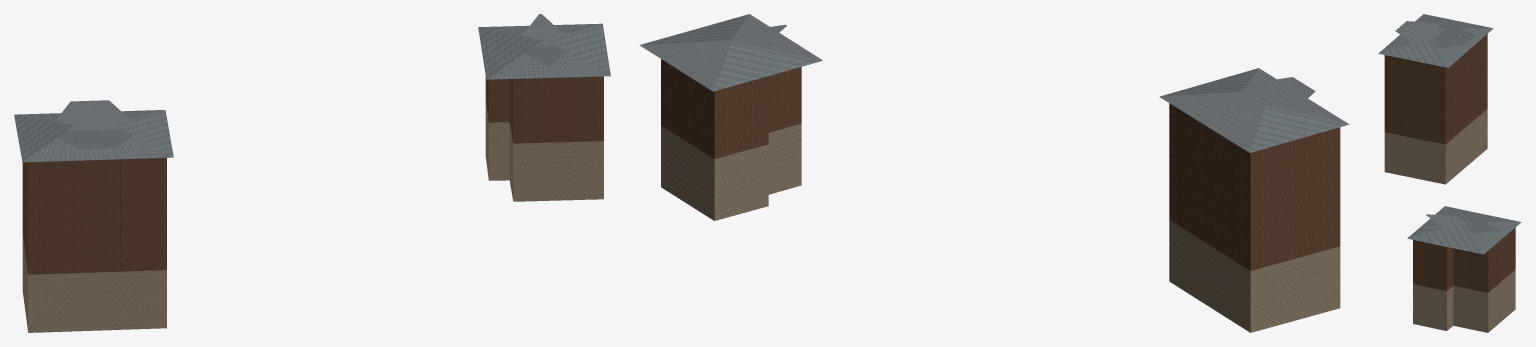
File: bld_c8_8_495.gltf
The picture shows the model from 3 angles, left to right: view 1: azimuth 30°, elevation 25°; view 2: azimuth 150°, elevation 25°; view 3: azimuth 270°, elevation 25°; orthographic projection. The views are drawn at different scales.
Parts seen in each view (by area): view 1: bld_c8_8_495; view 2: bld_c8_8_495; view 3: bld_c8_8_495.
Boxes of the visible parts, x1=… form: bld_c8_8_495: x1=14, y1=14, x2=610, y2=332; bld_c8_8_495: x1=639, y1=14, x2=1349, y2=332; bld_c8_8_495: x1=1378, y1=14, x2=1521, y2=332.
Bounding box in the file's own units: 57.25 × 16.2 × 16.59.
3 materials, 3 textured.
